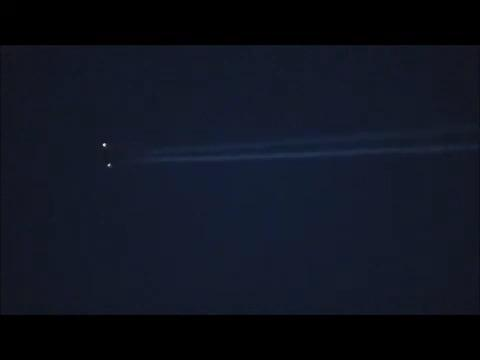Plane: (91, 120, 465, 184)
